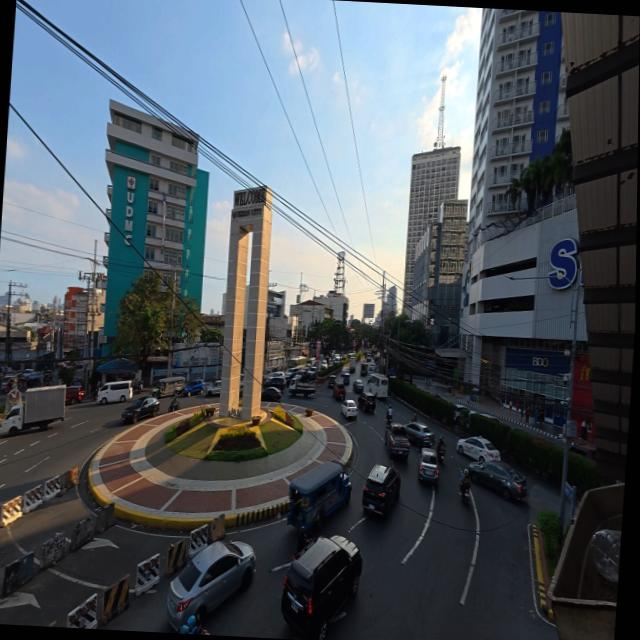car: (278, 531, 367, 640), (464, 458, 533, 502), (358, 461, 403, 519), (118, 396, 160, 428), (456, 436, 501, 462), (64, 380, 86, 404), (183, 380, 207, 398), (341, 398, 359, 419)
vans: (96, 380, 131, 405)
